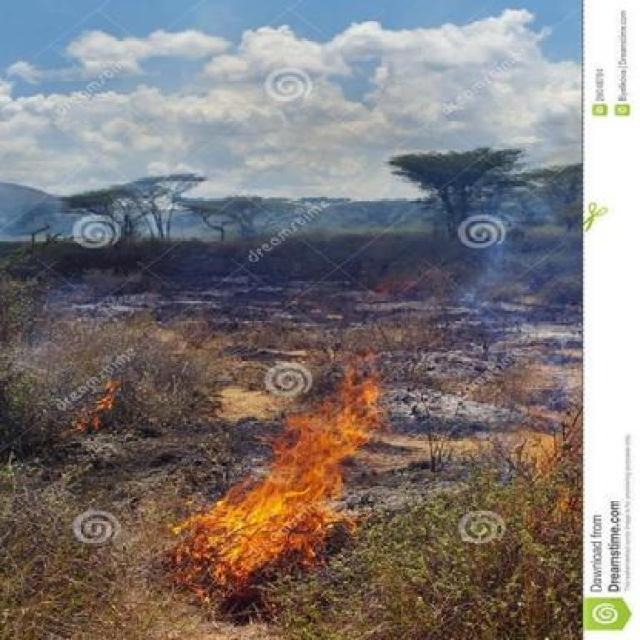Fire: (178, 347, 388, 624), (62, 364, 121, 434)
